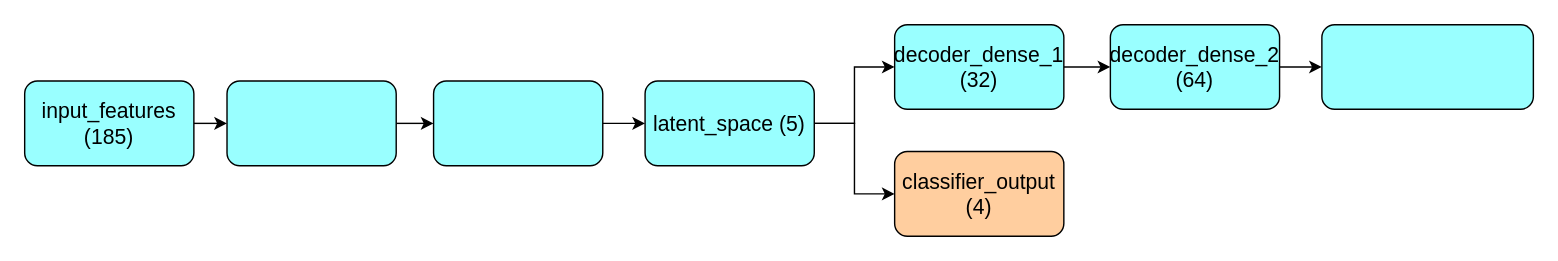
Some shapes in this 1558 by 261 pixel diagram are drawn without their labels. Here are the shapes that lost their labels. From the top down, the box of each, then its label:
(1320, 23, 1533, 109): reconstruction_output (185)
(226, 80, 396, 166): encoder_dense_1 (64)
(432, 80, 603, 166): encoder_dense_2 (32)
